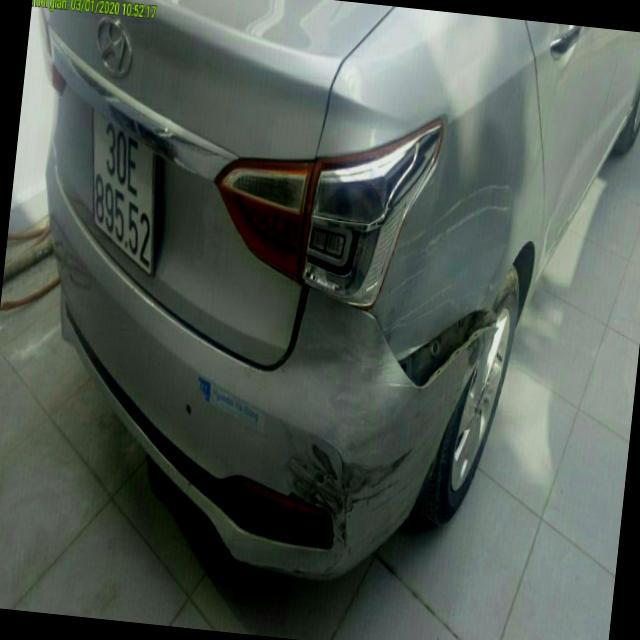Cabossage: (338, 293, 420, 403)
Dechirure: (366, 293, 495, 408)
Phare abime: (192, 89, 447, 321)
Rayure: (385, 159, 525, 320), (278, 432, 418, 549)
